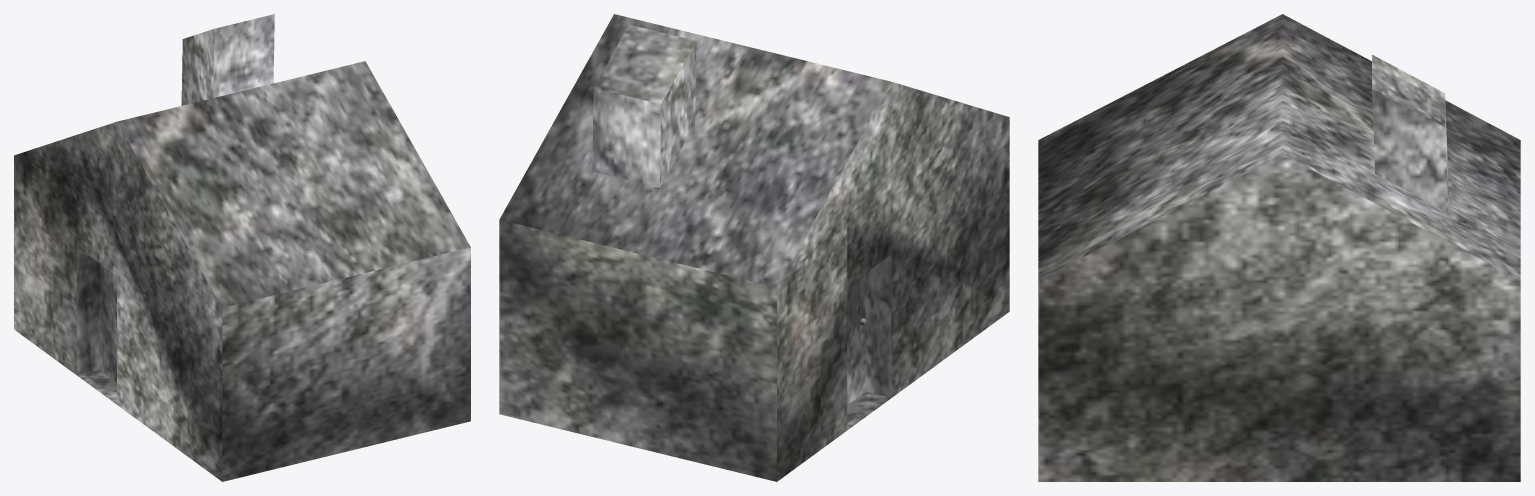
File: house.fbx
3 views of the same model, side by side, from view 1: azimuth 30°, elevation 25°; view 2: azimuth 150°, elevation 25°; view 3: azimuth 270°, elevation 25° (orthographic). The views are drawn at different scales.
Parts seen in each view (by area): view 1: Cube; view 2: Cube; view 3: Cube.
Boxes of the visible parts, box(x1,y1,x2,y2) form: Cube: box(14, 14, 470, 481); Cube: box(499, 14, 1009, 481); Cube: box(1038, 14, 1520, 481).
Bounding box in the file's own units: 200 × 242 × 290.
